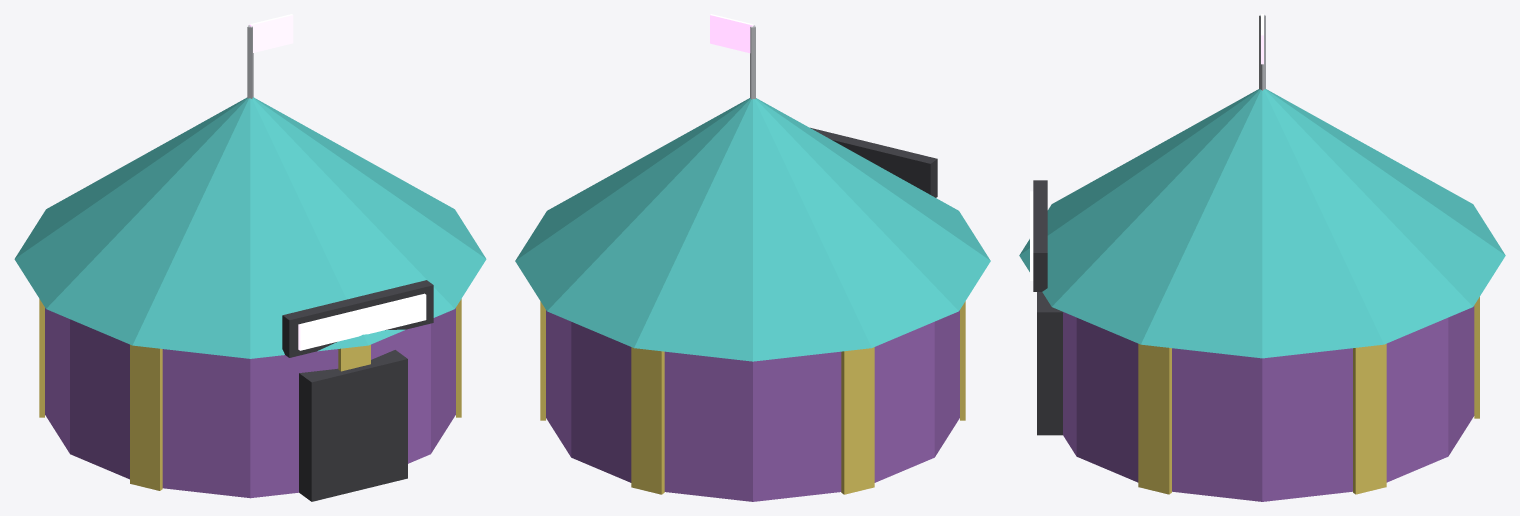
File: arena_tent.glb
3 views of the same model, side by side, from view 1: azimuth 30°, elevation 25°; view 2: azimuth 150°, elevation 25°; view 3: azimuth 270°, elevation 25° (orthographic). The views are drawn at different scales.
Visible parts, largest first — view 1: arena_tent; view 2: arena_tent; view 3: arena_tent.
Boxes of the visible parts, x1=… form: arena_tent: x1=14, y1=14, x2=486, y2=501; arena_tent: x1=515, y1=14, x2=990, y2=501; arena_tent: x1=1019, y1=14, x2=1505, y2=501.
Size of the model in its own units: 6.8 by 6.12 by 6.8.
